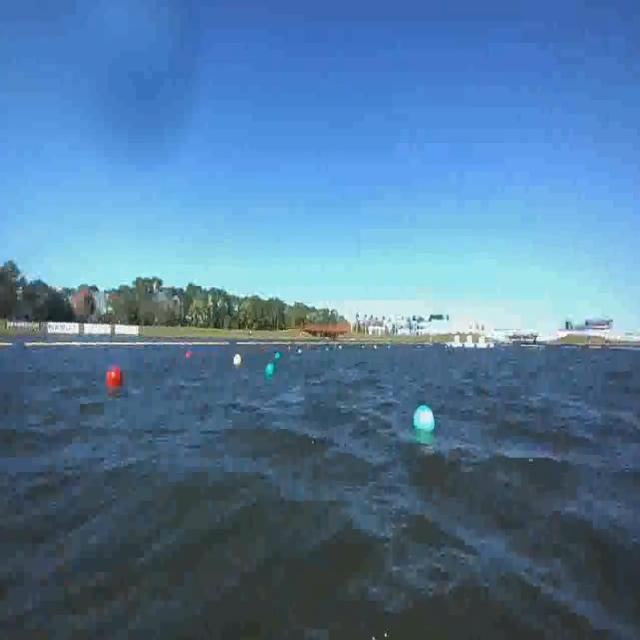green-buoy: (413, 404, 436, 433), (266, 361, 278, 377), (276, 350, 282, 360)
red-buoy: (107, 368, 123, 390), (184, 347, 192, 364)
yellow-buoy: (235, 352, 242, 366)
